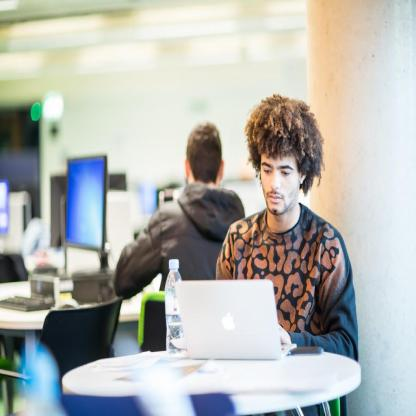board: (164, 278, 286, 365), (166, 259, 184, 352)
